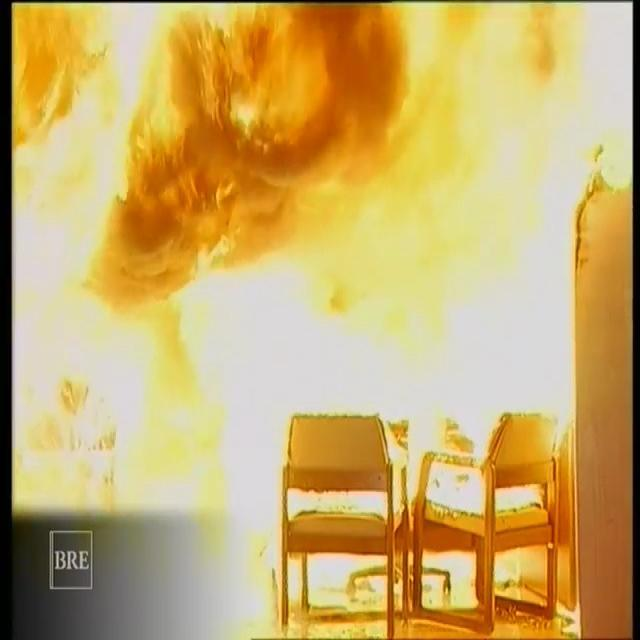Fire: (11, 1, 518, 388)
